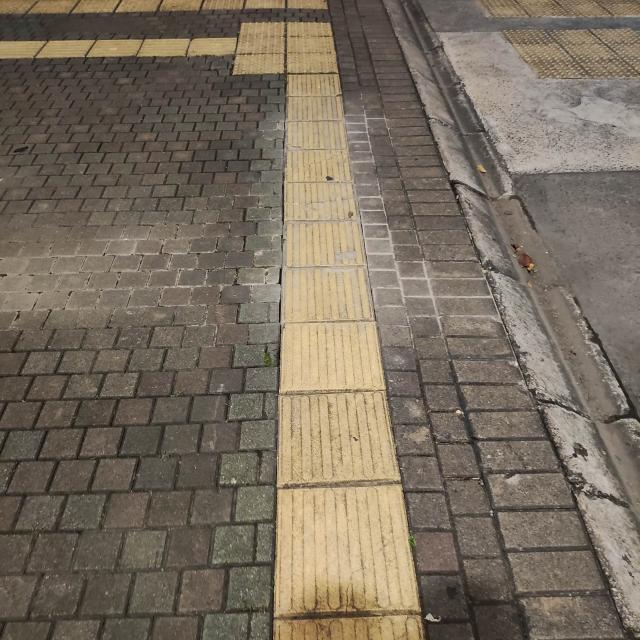kiri: (149, 30, 363, 105)
